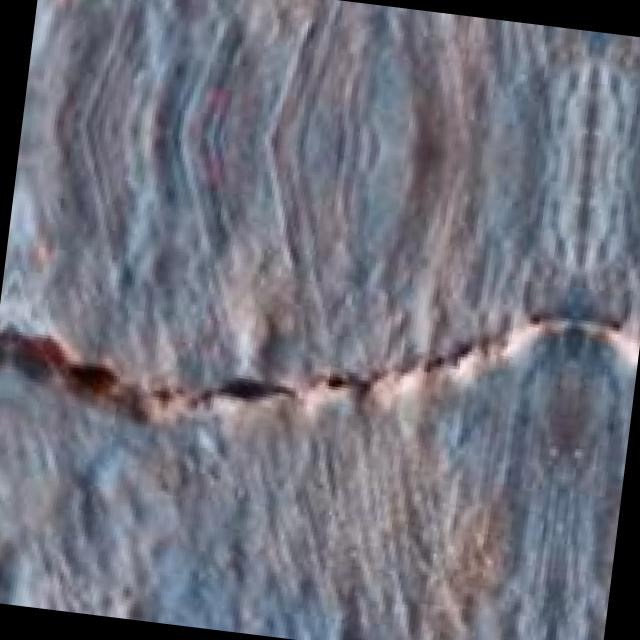crack: (0, 202, 634, 579)
